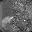people: (1, 16, 13, 28)
